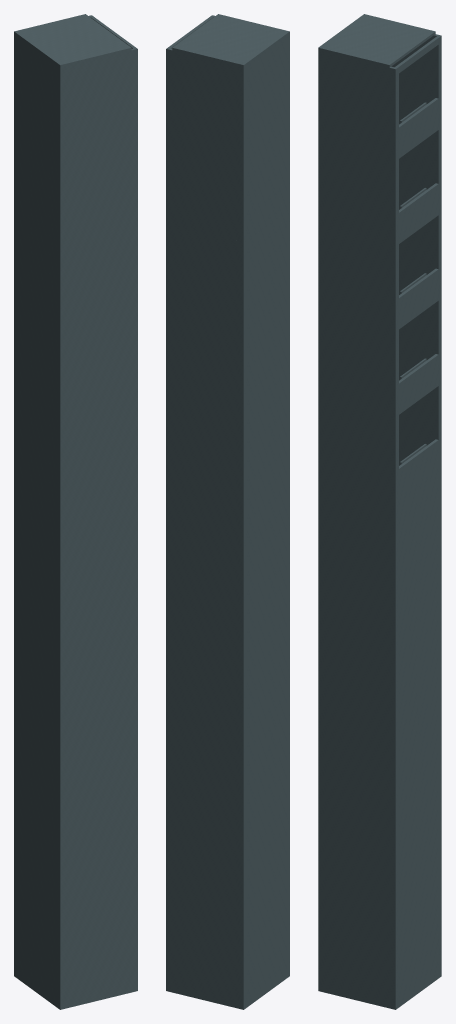
The model's file is AST-STF-009_upper_tidal_envelope_r001.glb.
The picture shows the model from 3 angles, left to right: view 1: azimuth 30°, elevation 25°; view 2: azimuth 150°, elevation 25°; view 3: azimuth 330°, elevation 25°; orthographic projection.
Parts seen in each view (by area): view 1: PortUpperAft_0, PortUpperAft_1, PortUpperAft_4, PortUpperAft_5, PortUpperAft_3, PortUpperAft_2, PortUpperRear_0, PortUpperRear_2, PortUpperRear_3, PortUpperRear_5, PortUpperRear_1, PortUpperRear_4 (+4 smaller); view 2: PortUpperFore_0, PortUpperFore_1, PortUpperFore_4, PortUpperFore_5, PortUpperFore_3, PortUpperFore_2, PortUpperRear_0, PortUpperRear_2, PortUpperRear_3, PortUpperRear_5, PortUpperRear_1, PortUpperRear_4 (+4 smaller); view 3: PortUpperBlankFront_D10_D12, PortUpperAft_0, PortUpperAft_4, PortUpperAft_3, PortUpperAft_5, PortUpperAft_1, PortUpperAft_2, PortUpperFore_5, PortUpperFore_4, ForwardStaffUpperMissingOnlyTopCap, PortUpperFore_3, PortUpperAft_6 (+18 smaller).
Part boxes in pixels (bbox=[...]): PortUpperAft_0: bbox=[63, 831, 137, 1009]; PortUpperAft_1: bbox=[63, 679, 137, 849]; PortUpperAft_4: bbox=[63, 223, 137, 393]; PortUpperAft_5: bbox=[63, 71, 137, 241]; PortUpperAft_3: bbox=[63, 375, 137, 545]; PortUpperAft_2: bbox=[63, 528, 137, 697]; PortUpperRear_0: bbox=[14, 817, 62, 1009]; PortUpperRear_2: bbox=[14, 513, 62, 698]; PortUpperRear_3: bbox=[14, 361, 62, 546]; PortUpperRear_5: bbox=[14, 57, 62, 242]; PortUpperRear_1: bbox=[14, 665, 62, 850]; PortUpperRear_4: bbox=[14, 209, 62, 394]; PortUpperFore_0: bbox=[166, 831, 240, 1009]; PortUpperFore_1: bbox=[166, 679, 240, 849]; PortUpperFore_4: bbox=[166, 223, 240, 393]; PortUpperFore_5: bbox=[166, 71, 240, 241]; PortUpperFore_3: bbox=[166, 375, 240, 545]; PortUpperFore_2: bbox=[166, 528, 240, 697]; PortUpperRear_0: bbox=[241, 817, 289, 1009]; PortUpperRear_2: bbox=[241, 513, 289, 698]; PortUpperRear_3: bbox=[241, 361, 289, 546]; PortUpperRear_5: bbox=[241, 57, 289, 242]; PortUpperRear_1: bbox=[241, 665, 289, 850]; PortUpperRear_4: bbox=[241, 209, 289, 394]; PortUpperBlankFront_D10_D12: bbox=[393, 438, 441, 1009]; PortUpperAft_0: bbox=[321, 832, 397, 1009]; PortUpperAft_4: bbox=[321, 225, 397, 395]; PortUpperAft_3: bbox=[321, 377, 397, 546]; PortUpperAft_5: bbox=[321, 74, 397, 243]; PortUpperAft_1: bbox=[321, 681, 397, 850]; PortUpperAft_2: bbox=[321, 529, 397, 698]; PortUpperFore_5: bbox=[391, 52, 441, 210]; PortUpperFore_4: bbox=[399, 201, 441, 359]; ForwardStaffUpperMissingOnlyTopCap: bbox=[318, 14, 435, 67]; PortUpperFore_3: bbox=[399, 353, 441, 514]; PortUpperAft_6: bbox=[321, 51, 397, 91].
Size of the model in its own units: 4.28 by 49.74 by 4.4.
Materials: 1 (1 with a texture image).
